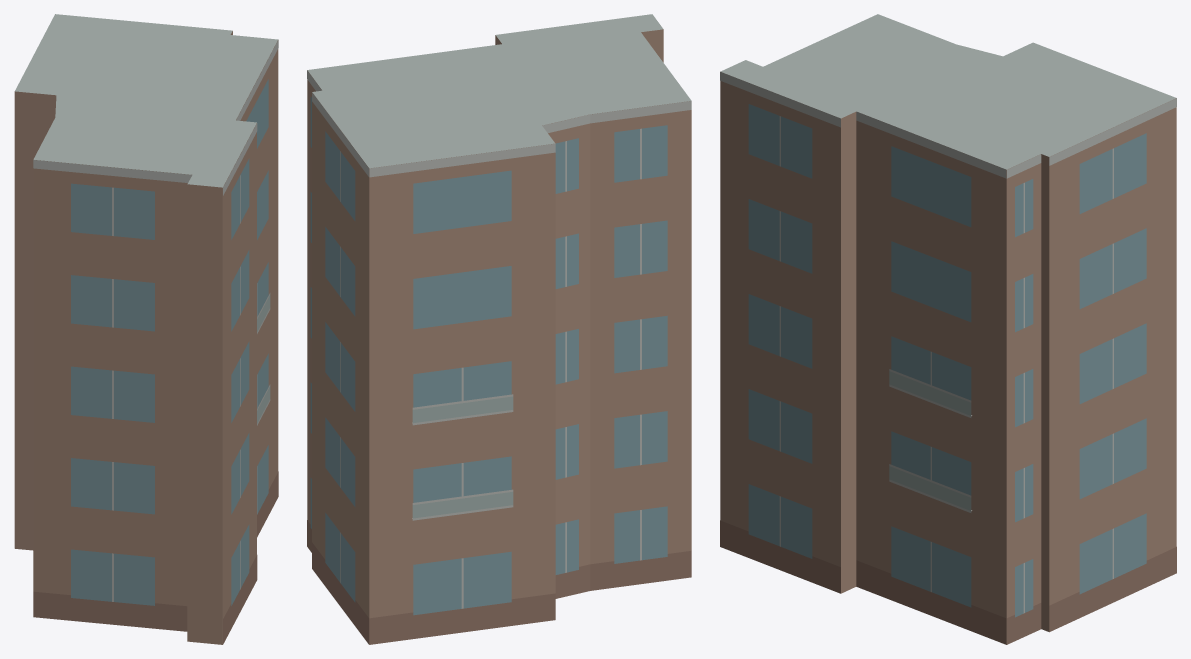
File: survey-upis-32643834.glb
The picture shows the model from 3 angles, left to right: view 1: azimuth 30°, elevation 25°; view 2: azimuth 150°, elevation 25°; view 3: azimuth 270°, elevation 25°; orthographic projection. The views are drawn at different scales.
Visible parts, largest first — view 1: survey-upis-32643834.tmp; view 2: survey-upis-32643834.tmp; view 3: survey-upis-32643834.tmp.
Boxes of the visible parts, bbox=[...] form: survey-upis-32643834.tmp: bbox=[14, 14, 278, 644]; survey-upis-32643834.tmp: bbox=[307, 14, 691, 644]; survey-upis-32643834.tmp: bbox=[720, 14, 1176, 644].
Bounding box in the file's own units: 9 × 12.8 × 11.15.
